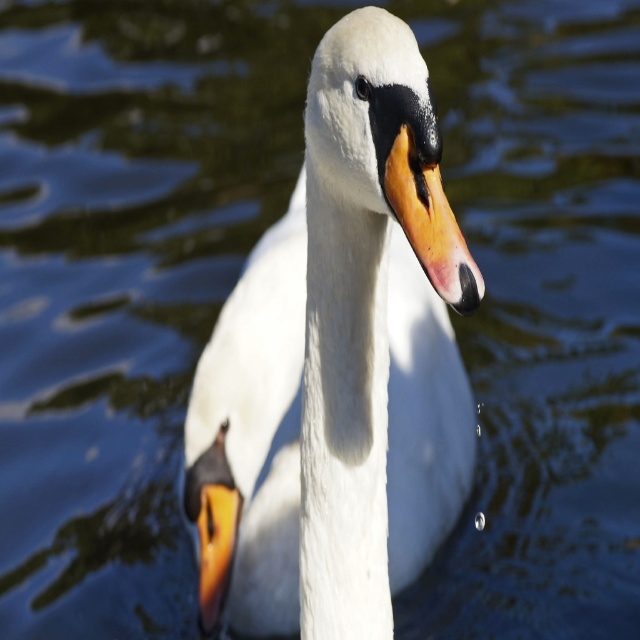Duck: (168, 0, 502, 634)
